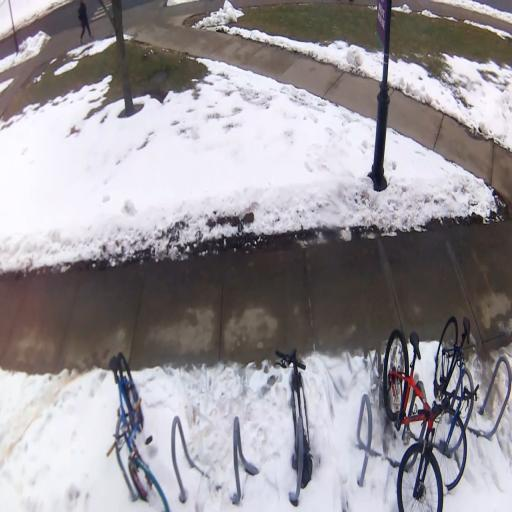pessoa: (77, 0, 93, 46)
